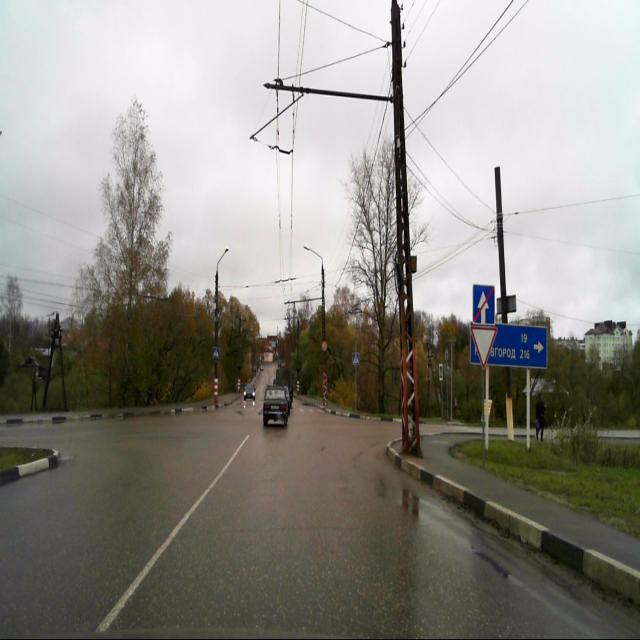road sign: (468, 324, 496, 370), (472, 284, 494, 325)
